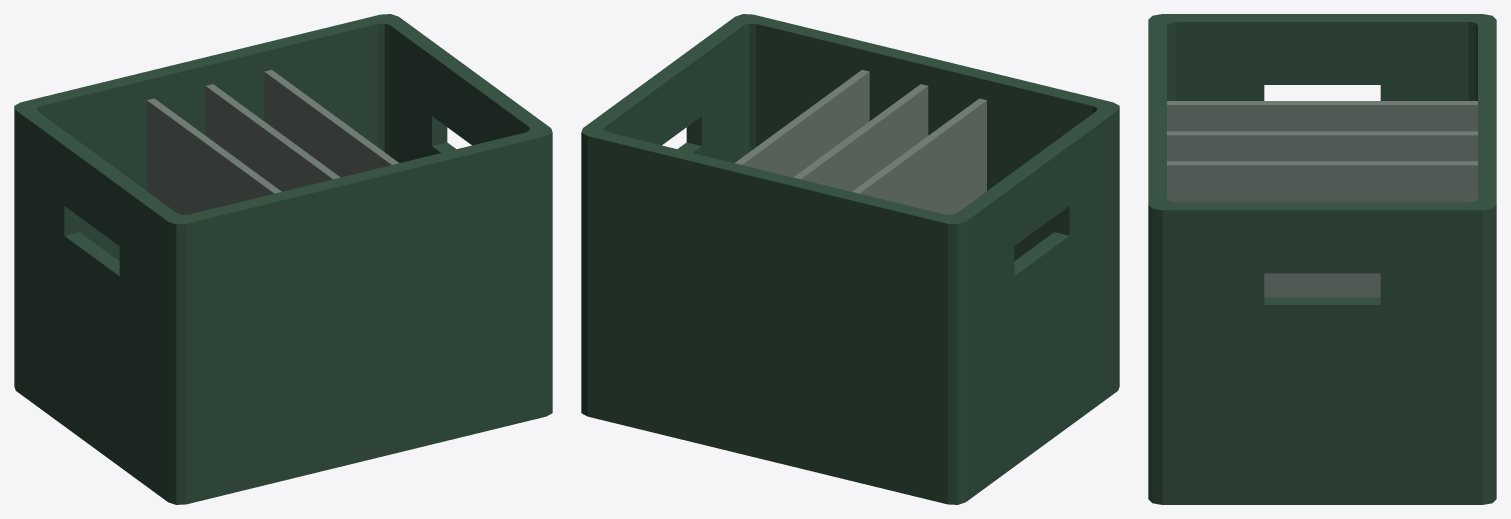
File: beer_crate.glb
3 renders of one model, left to right at view 1: azimuth 30°, elevation 25°; view 2: azimuth 150°, elevation 25°; view 3: azimuth 270°, elevation 25°, orthographic. The views are drawn at different scales.
Visible parts, largest first — view 1: beer_crate; view 2: beer_crate; view 3: beer_crate.
Part boxes in pixels (x1,y1,x2,y2): beer_crate: (14,14,552,504); beer_crate: (581,14,1119,504); beer_crate: (1148,14,1496,504).
Size of the model in its own units: 0.4 by 0.28 by 0.3.
